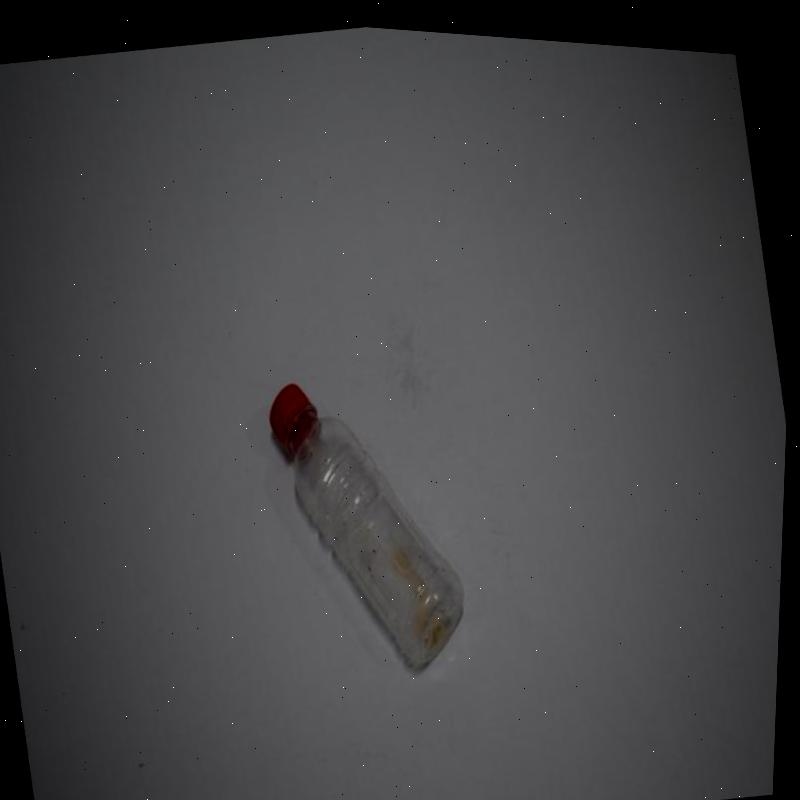botella: (260, 352, 487, 688)
